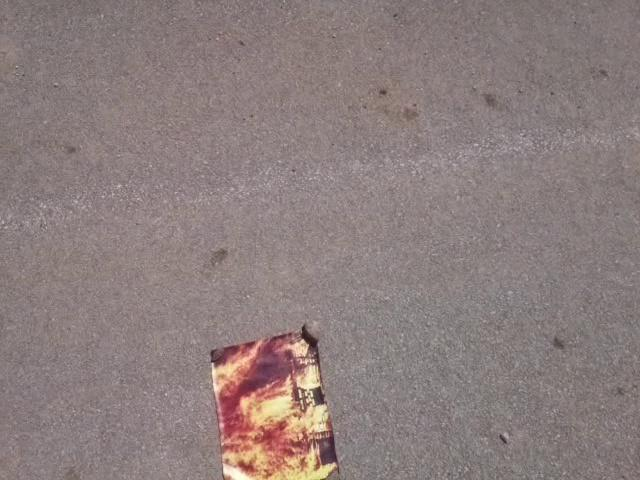fire-poster: (207, 319, 341, 479)
